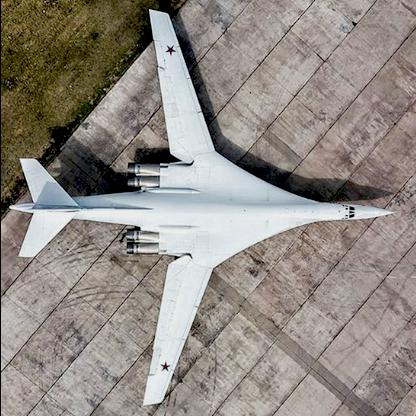Su34: (6, 10, 396, 406)
